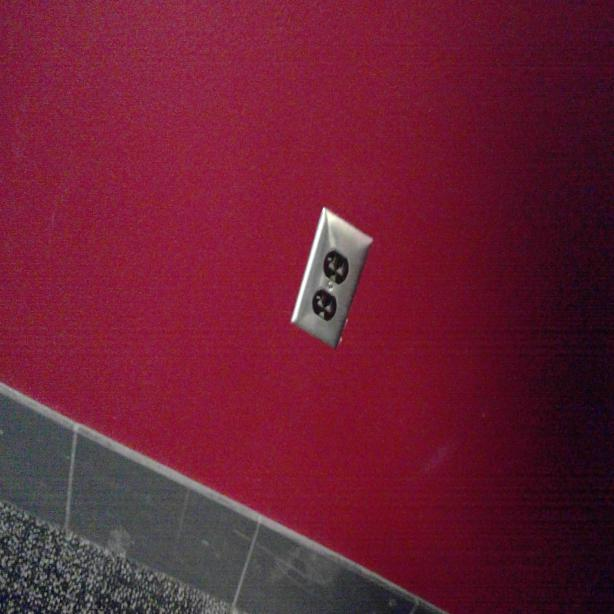typeb: (320, 244, 350, 283), (309, 287, 337, 326)
